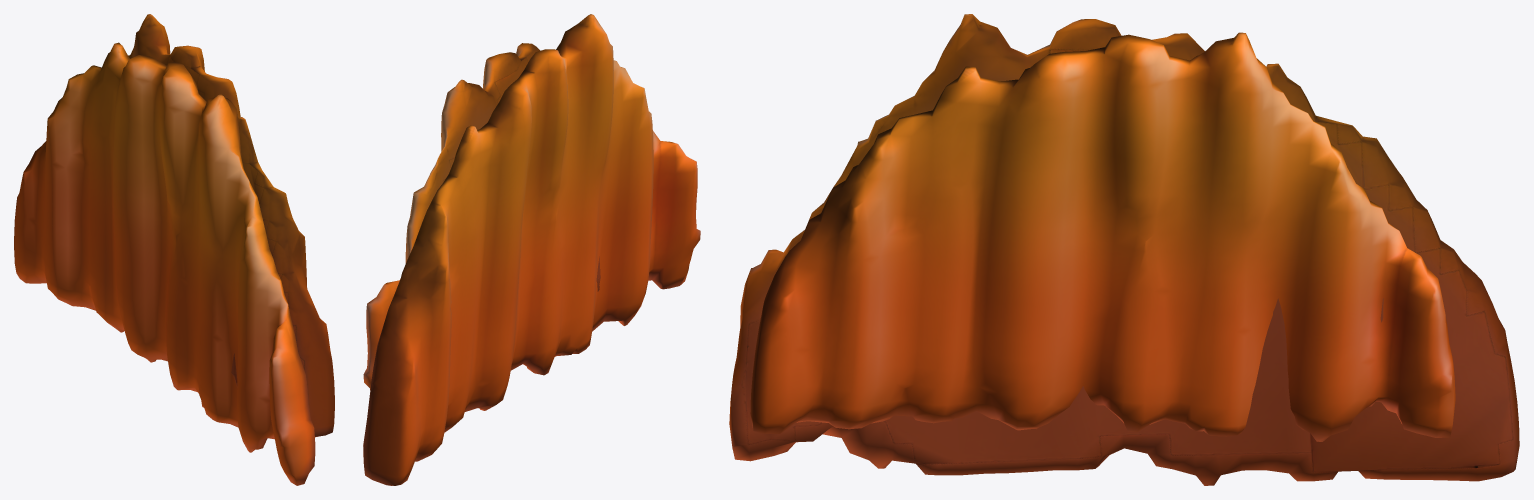
Rendered from carrot.glb.
3 renders of one model, left to right at view 1: azimuth 30°, elevation 25°; view 2: azimuth 150°, elevation 25°; view 3: azimuth 270°, elevation 25°, orthographic. The views are drawn at different scales.
Visible parts, largest first — view 1: carrot _low.002; view 2: carrot _low.002; view 3: carrot _low.002.
Part boxes in pixels (left/top/right/bottom): carrot _low.002: left=14, top=14, right=334, bottom=485; carrot _low.002: left=363, top=14, right=700, bottom=485; carrot _low.002: left=729, top=14, right=1519, bottom=485.
Size of the model in its own units: 0.1622 by 0.6485 by 1.01.
Materials: 1 (1 with a texture image).
